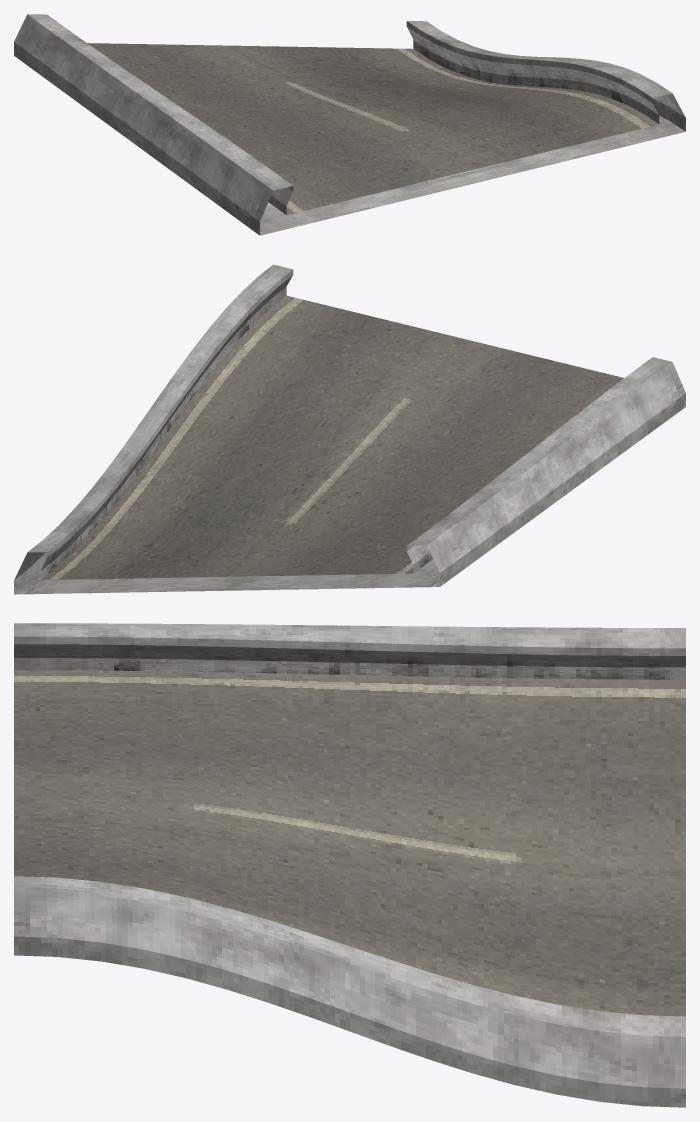
Rendered from straight1.glb.
The picture shows the model from 3 angles, top to bottom: view 1: azimuth 30°, elevation 25°; view 2: azimuth 150°, elevation 25°; view 3: azimuth 270°, elevation 25°; orthographic projection. The views are drawn at different scales.
Parts seen in each view (by area): view 1: road-Straight-Flat-HalfBankedRight-Down1-Center-Size1; view 2: road-Straight-Flat-HalfBankedRight-Down1-Center-Size1; view 3: road-Straight-Flat-HalfBankedRight-Down1-Center-Size1.
Boxes of the visible parts, x1=… form: road-Straight-Flat-HalfBankedRight-Down1-Center-Size1: x1=14, y1=14, x2=685, y2=235; road-Straight-Flat-HalfBankedRight-Down1-Center-Size1: x1=14, y1=264, x2=685, y2=594; road-Straight-Flat-HalfBankedRight-Down1-Center-Size1: x1=14, y1=623, x2=685, y2=1107.
Size of the model in its own units: 1 by 0.3438 by 1.
Materials: 2 (2 with a texture image).
